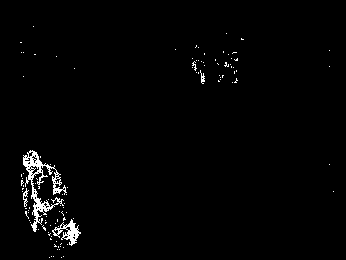person: (21, 149, 79, 257)
